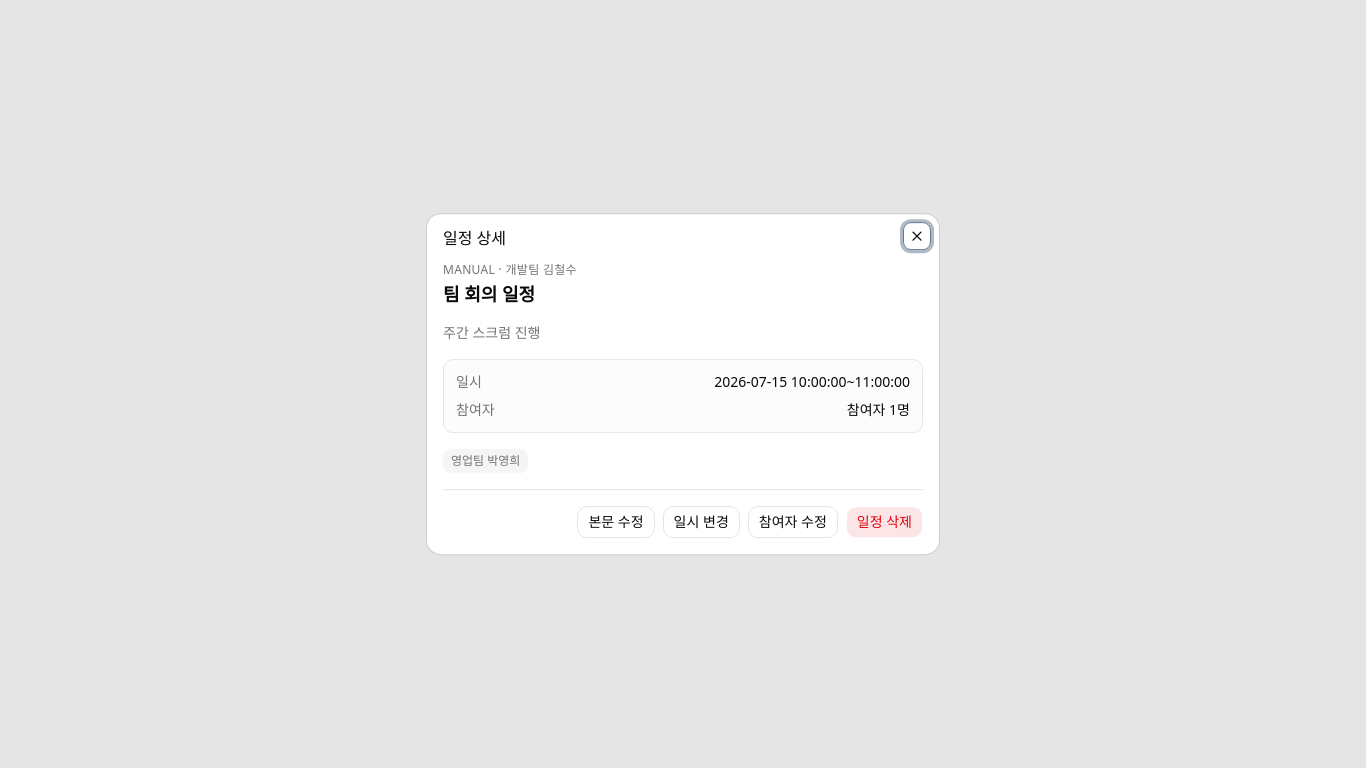
Scenario: ScheduleDetailDialog - 수정 저장 › 저장 실패(400 VALIDATION_ERROR) 시 폼에 에러 메시지가 표시되고 수정 뷰가 유지된다
Click the button "본문 수정".
click(616, 522)  # box x1=577 y1=506 x2=655 y2=538
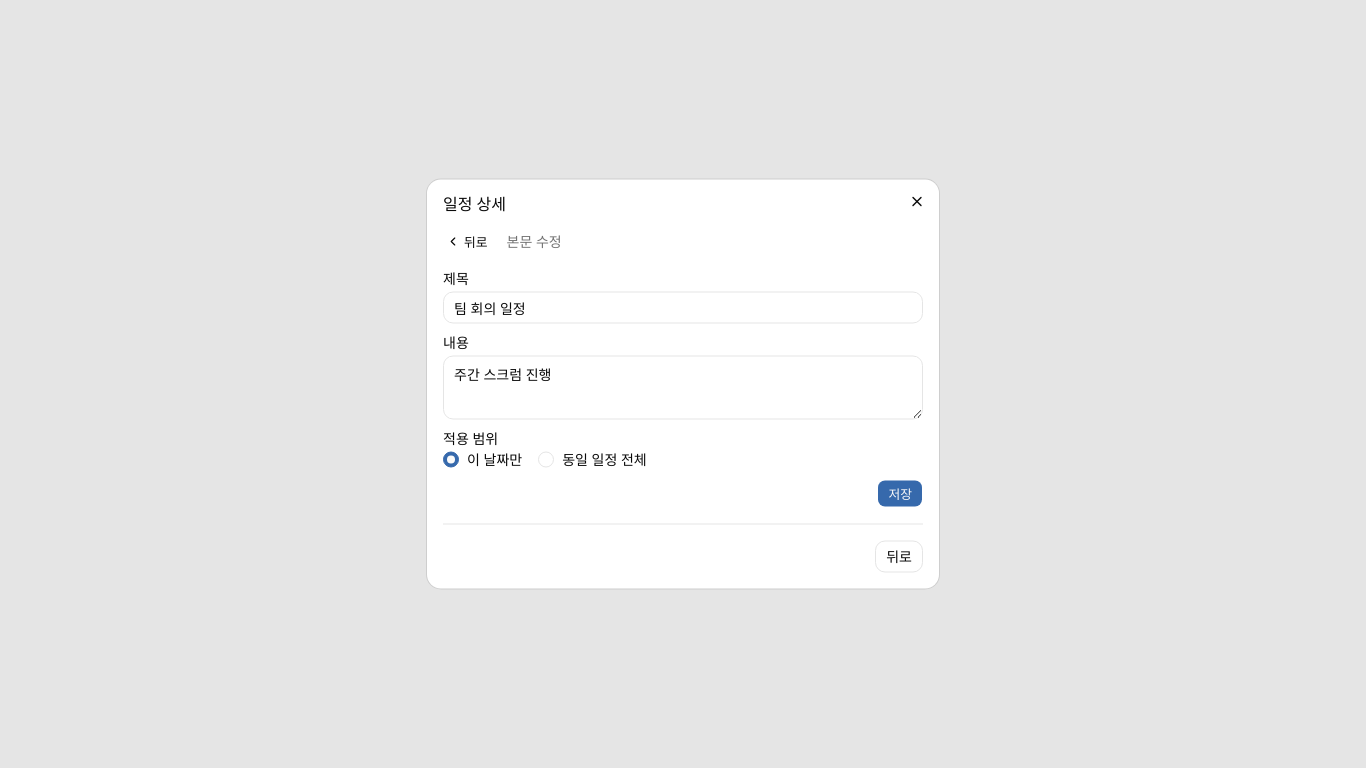
Click the button "저장".
click(900, 494)  # box x1=878 y1=480 x2=923 y2=508
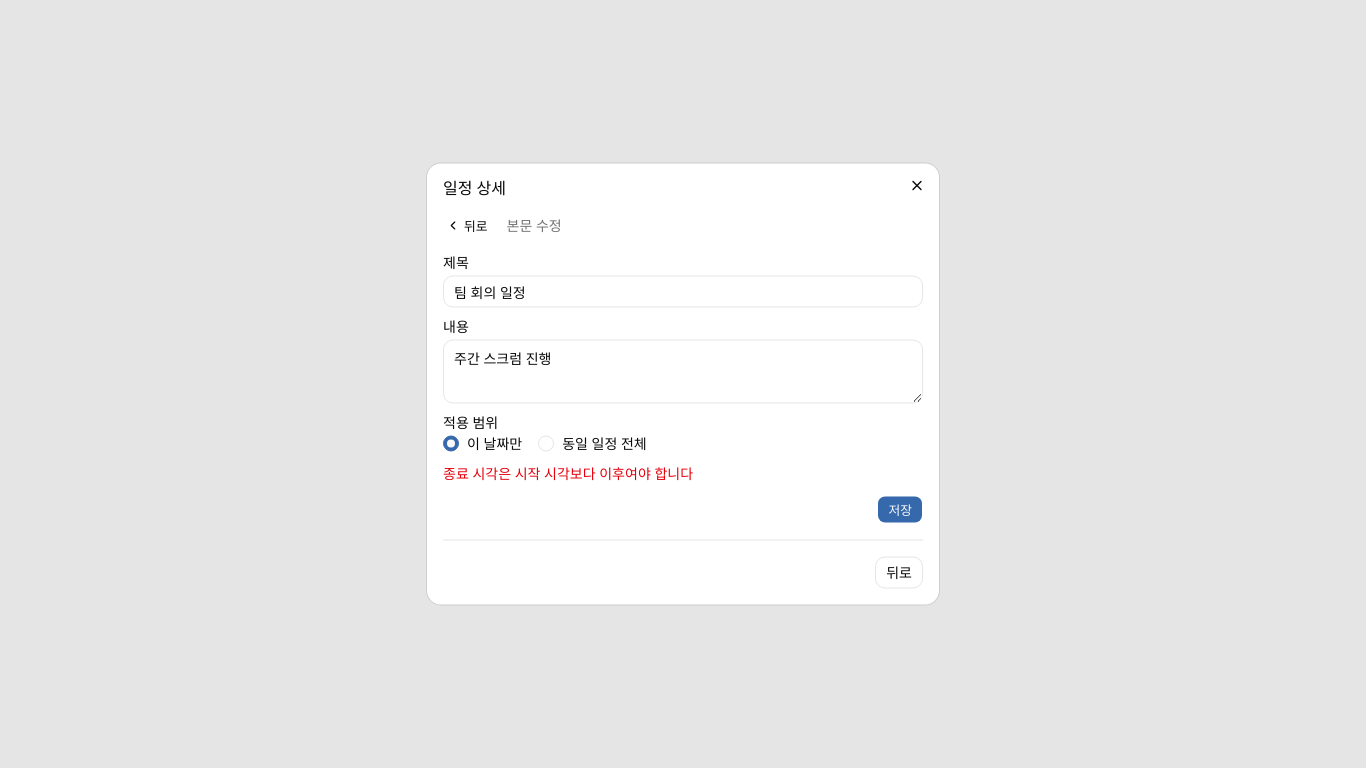
expect the button "저장" is shown: met, box x1=878 y1=496 x2=923 y2=524
expect the text "종료 시각은 시작 시각보다 이후여야 합니다" is shown: met, box x1=443 y1=464 x2=693 y2=482
